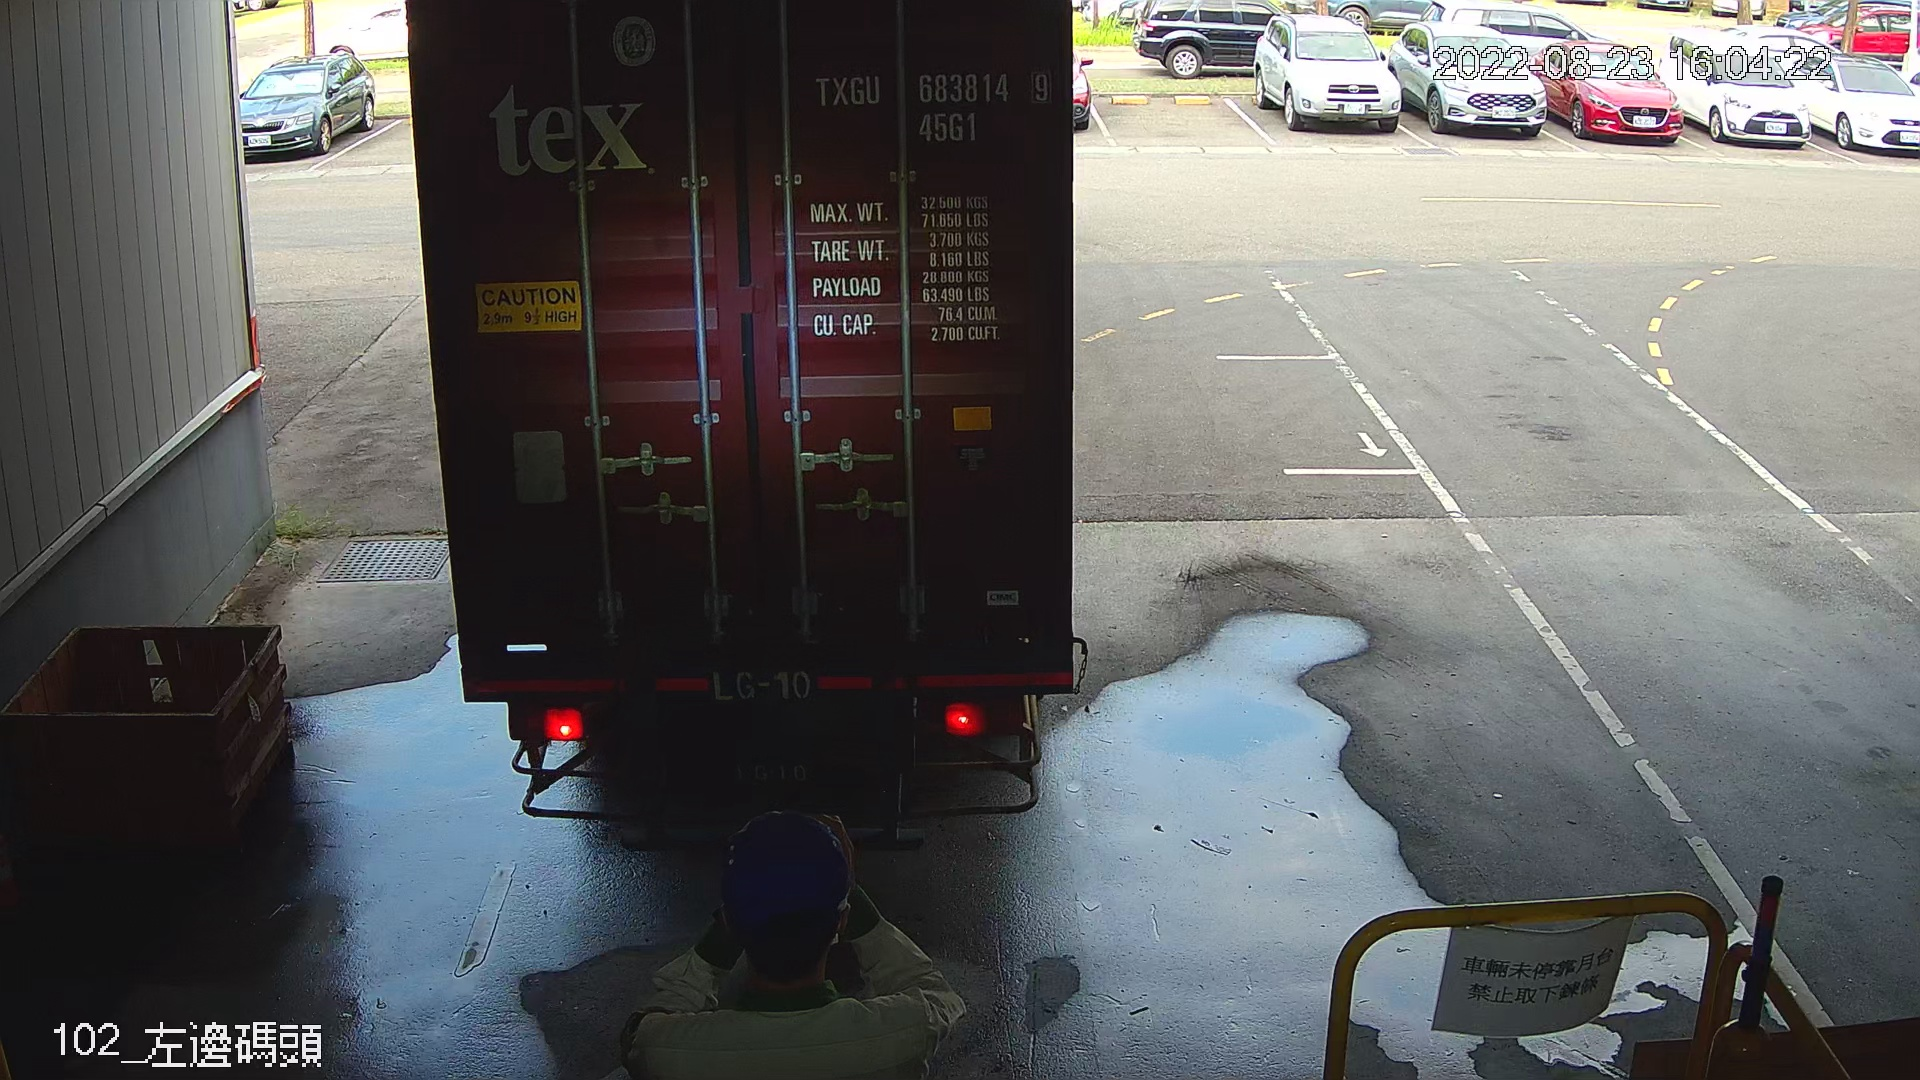container: (806, 61, 1060, 152)
